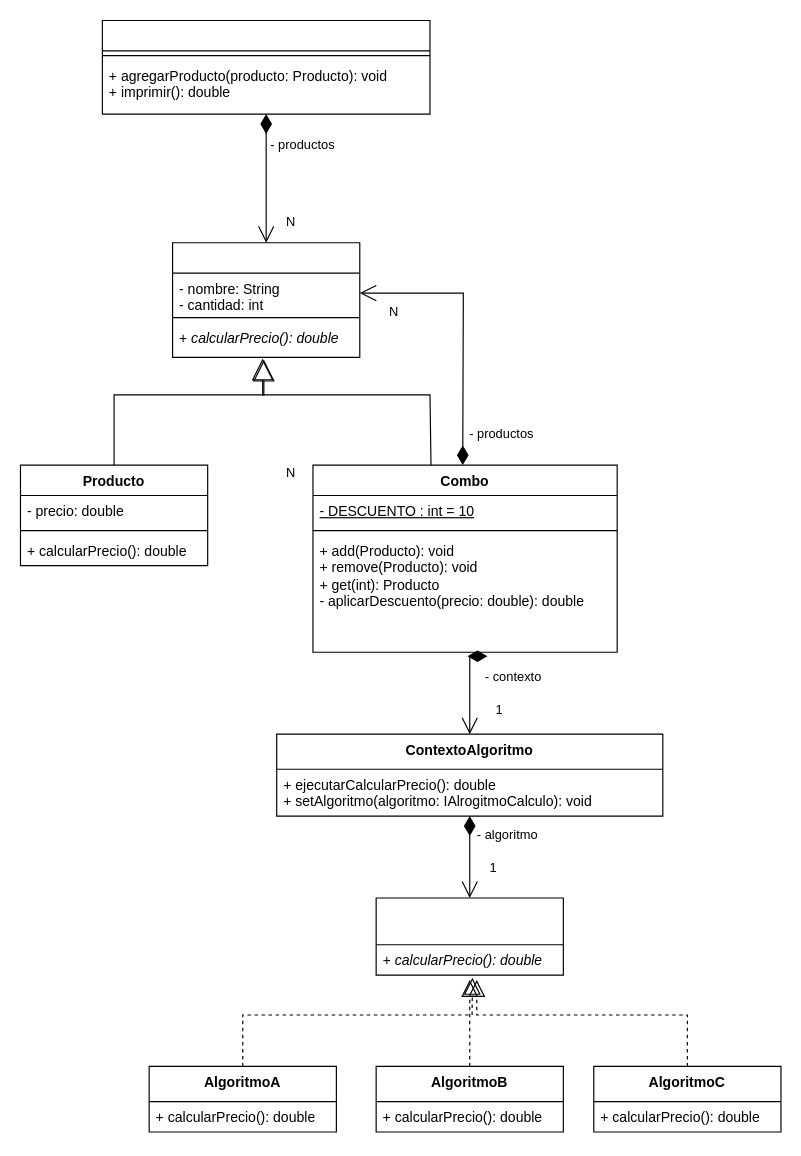
The diagram is 801 pixels wide and 1156 high, and some of its shapes have lost their labels. The shapes that lost their labels are listed below. From the top down, each one's box as (x1, y1, x2, y2) in pixels, then its label:
(101, 19, 430, 114): Ticket
(171, 242, 360, 357): Item
(375, 897, 563, 975): <<interface>> IAlgoritmoCalculo
